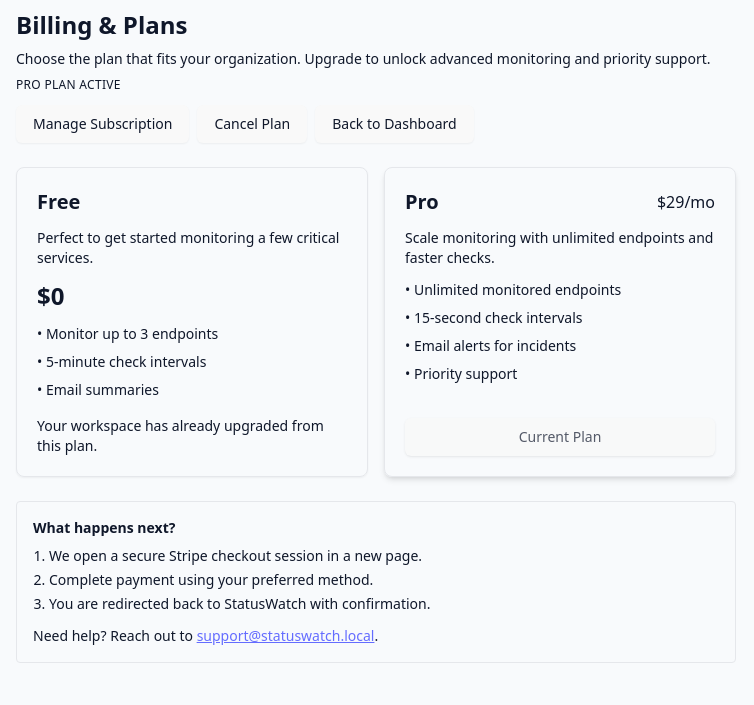
Test case: BillingPage › shows an error when the billing portal is unavailable
Click the button "Manage Subscription".
click(103, 124)  # box x1=16 y1=105 x2=189 y2=143
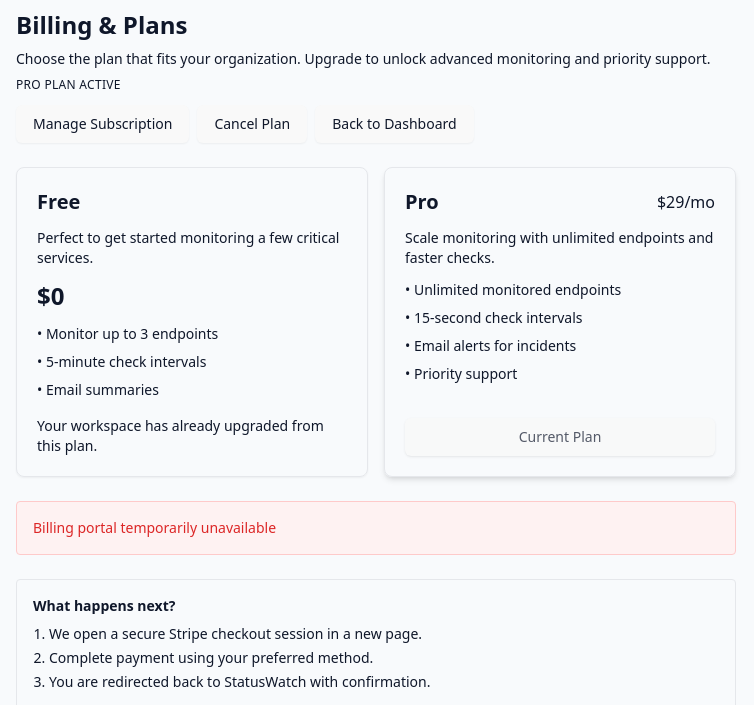
Now the text "Billing portal temporarily unavailable" is shown, box x1=33 y1=518 x2=276 y2=537
